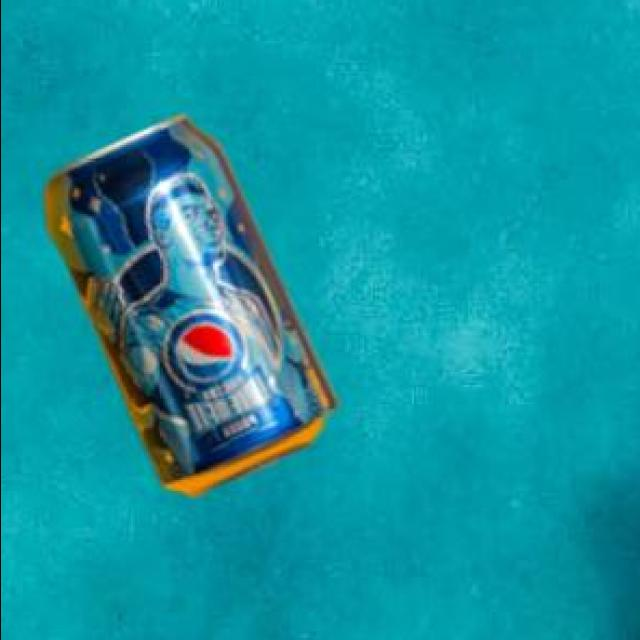logam: (49, 120, 338, 498)
